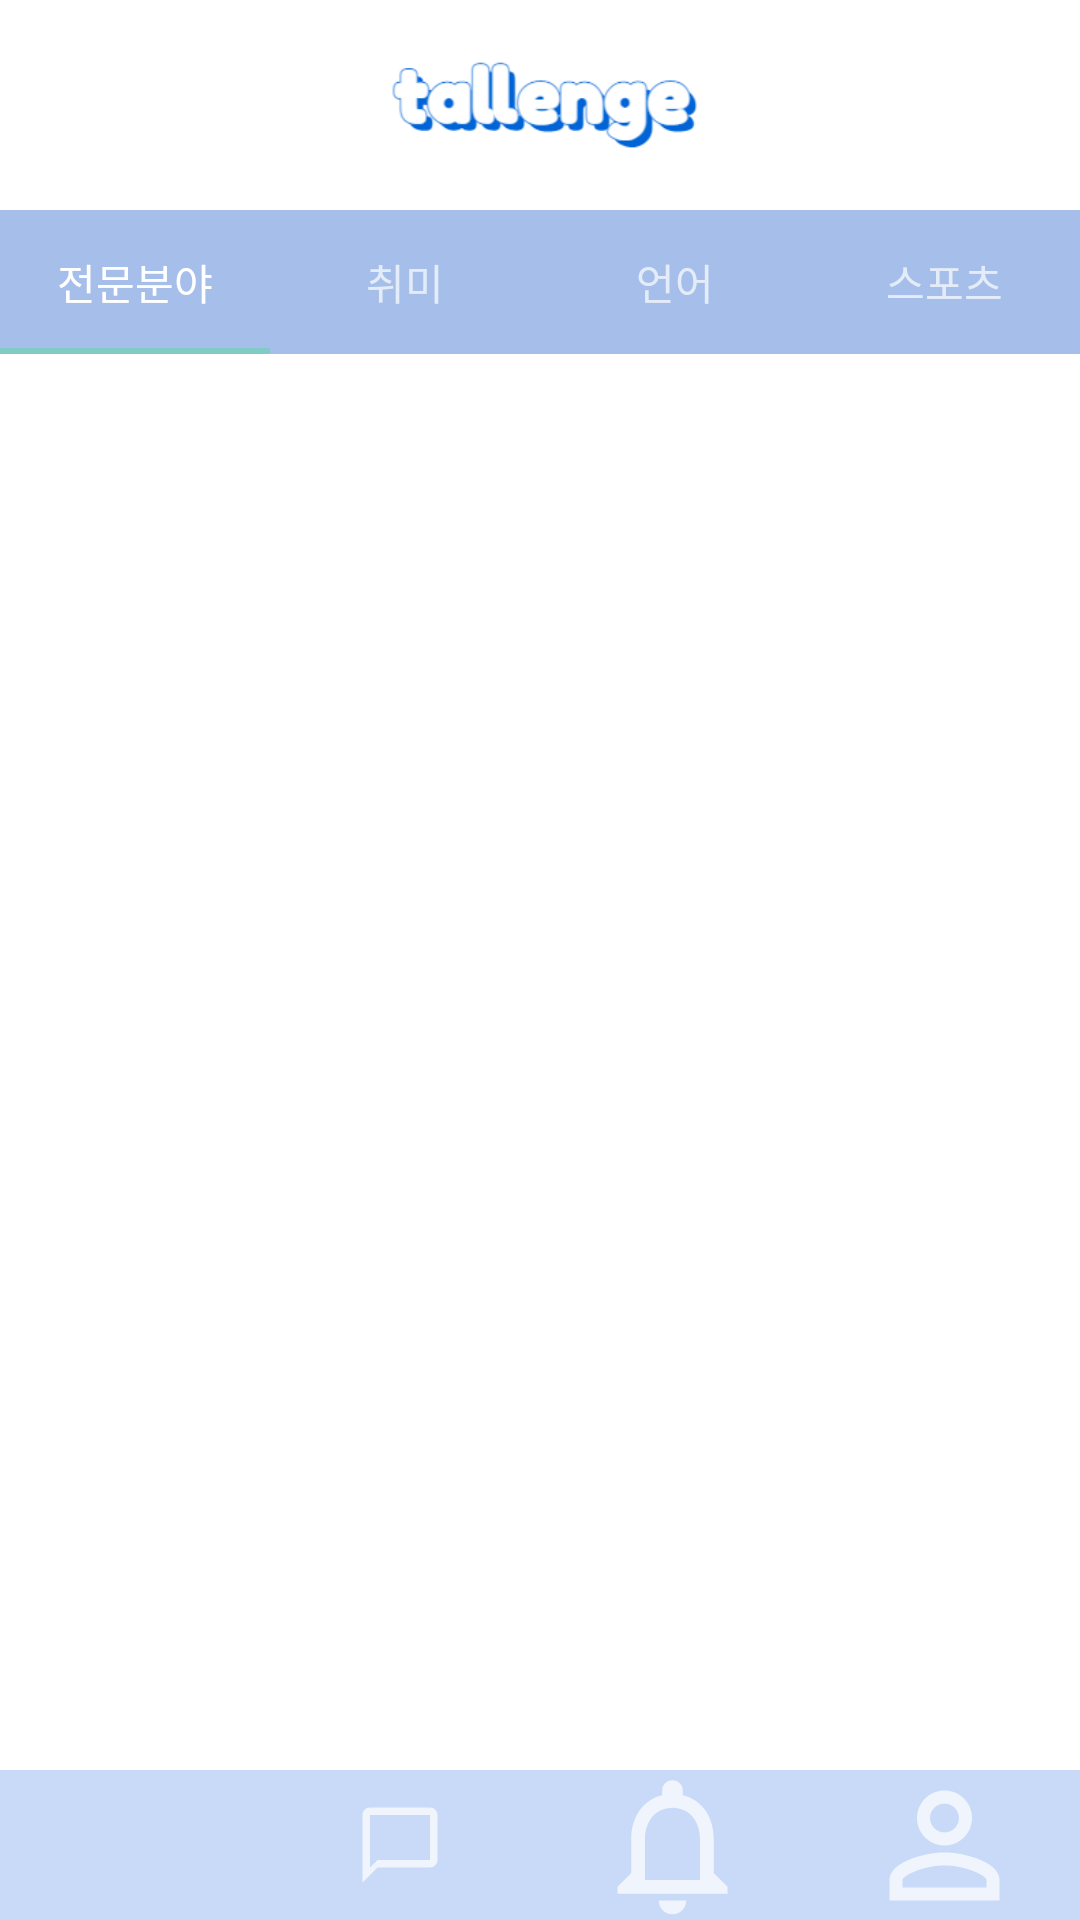

Screen size 1080*1920. Icon name, then its center in pixels as [x,y]:
chat bubble: [400,1844]
notifications none: [672,1847]
person: [944,1845]
